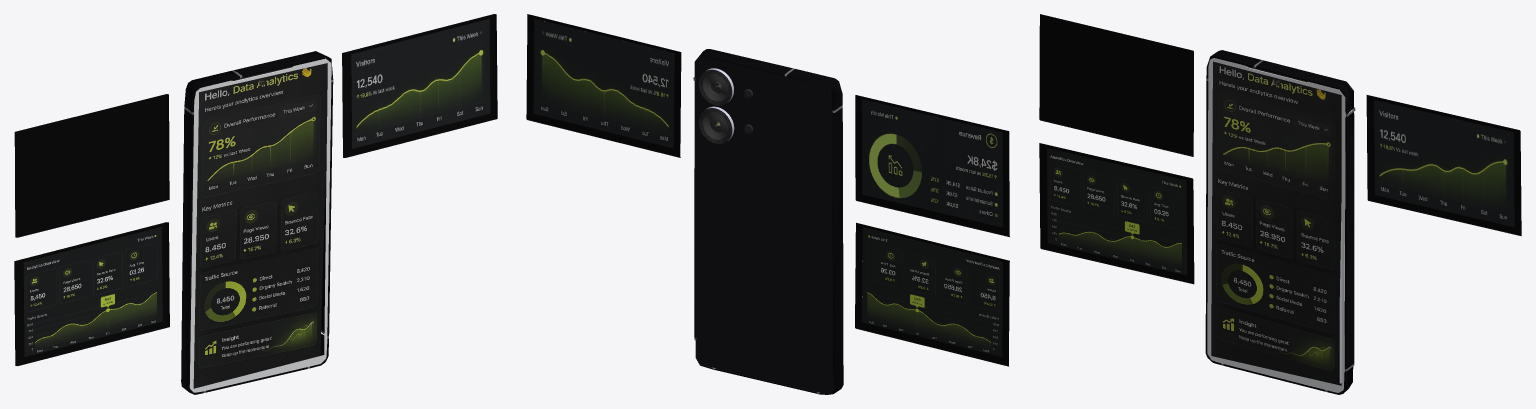
Rendered from data-analytics.glb.
The picture shows the model from 3 angles, left to right: view 1: azimuth 30°, elevation 25°; view 2: azimuth 150°, elevation 25°; view 3: azimuth 330°, elevation 25°; orthographic projection.
Visible parts, largest first — view 1: Object_50, Object_14.001, Object_14.003, Object_14.002, Object_38, Object_45; view 2: Object_38, Object_14.001, Object_14.003, Object_14.002, Object_51, Object_5; view 3: Object_50, Object_14.001, Object_14.003, Object_14.002, Object_38, Object_45.
Part boxes in pixels (box(x1,y1,x2,y2)): Object_50: box(193, 63, 327, 388); Object_14.001: box(14, 14, 497, 366); Object_14.003: box(350, 19, 490, 148); Object_14.002: box(23, 227, 162, 356); Object_38: box(181, 51, 333, 394); Object_45: box(189, 58, 331, 392); Object_38: box(694, 49, 843, 394); Object_14.001: box(526, 14, 1009, 366); Object_14.003: box(533, 18, 674, 148); Object_14.002: box(862, 227, 1002, 356); Object_51: box(698, 69, 753, 143); Object_5: box(703, 74, 728, 139); Object_50: box(1211, 61, 1341, 384); Object_14.001: box(1039, 14, 1521, 284); Object_14.003: box(1374, 100, 1514, 227); Object_14.002: box(1047, 148, 1187, 275); Object_38: box(1205, 50, 1354, 394); Object_45: box(1207, 58, 1345, 392).
Bounding box in the file's own units: 0.2656 × 0.1637 × 0.0116.
7 materials, 7 textured.
